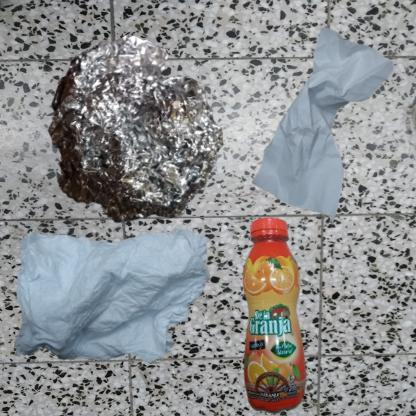aluminio: (10, 10, 272, 284)
botella: (213, 213, 354, 416)
papel: (213, 10, 416, 259), (10, 213, 219, 376)
